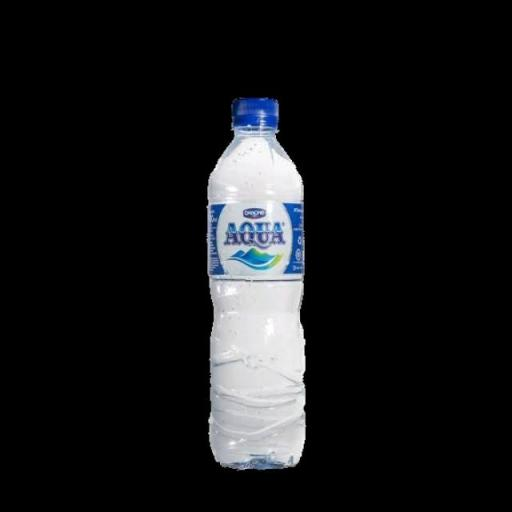plastic: (199, 86, 313, 476)
